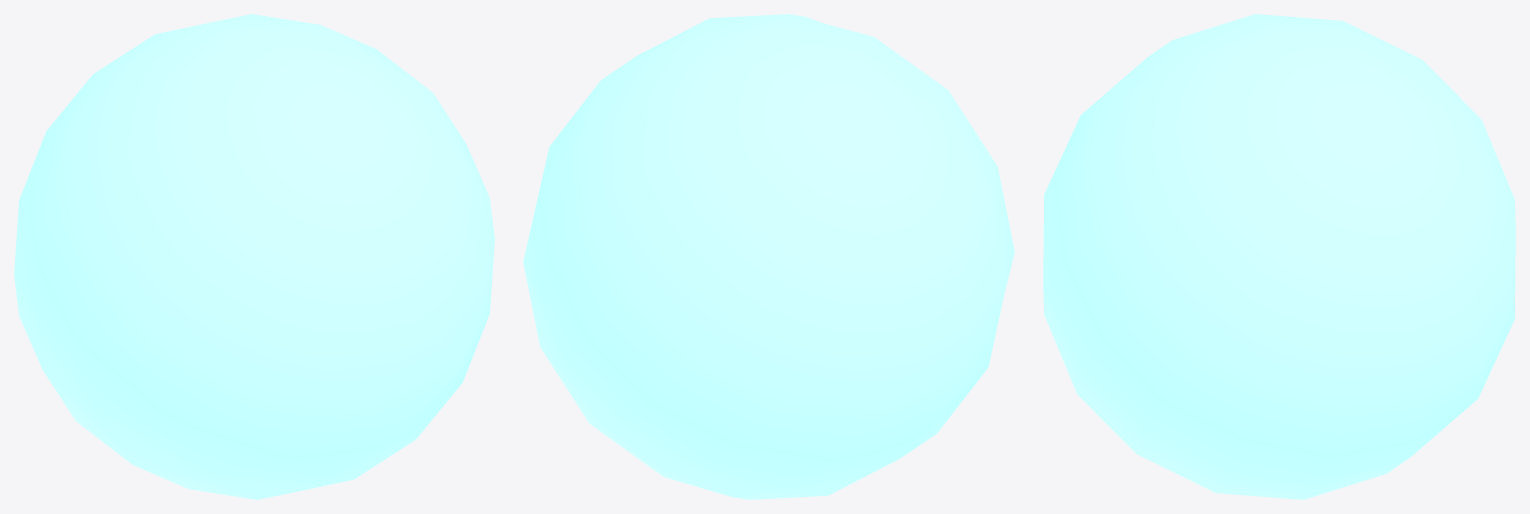
Rendered from obstacle_9_002.fbx.
The picture shows the model from 3 angles, left to right: view 1: azimuth 30°, elevation 25°; view 2: azimuth 150°, elevation 25°; view 3: azimuth 270°, elevation 25°; orthographic projection.
Parts seen in each view (by area): view 1: obstacle_9_002; view 2: obstacle_9_002; view 3: obstacle_9_002.
Part boxes in pixels (<box>): obstacle_9_002: <box>14,14,494,499</box>; obstacle_9_002: <box>523,14,1014,499</box>; obstacle_9_002: <box>1043,14,1515,499</box>.
Bounding box in the file's own units: 346 × 335 × 346.
